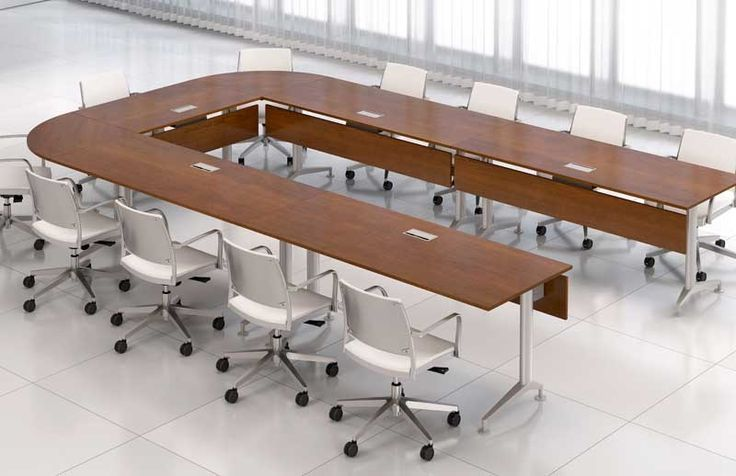conference_table: (27, 71, 736, 433)
